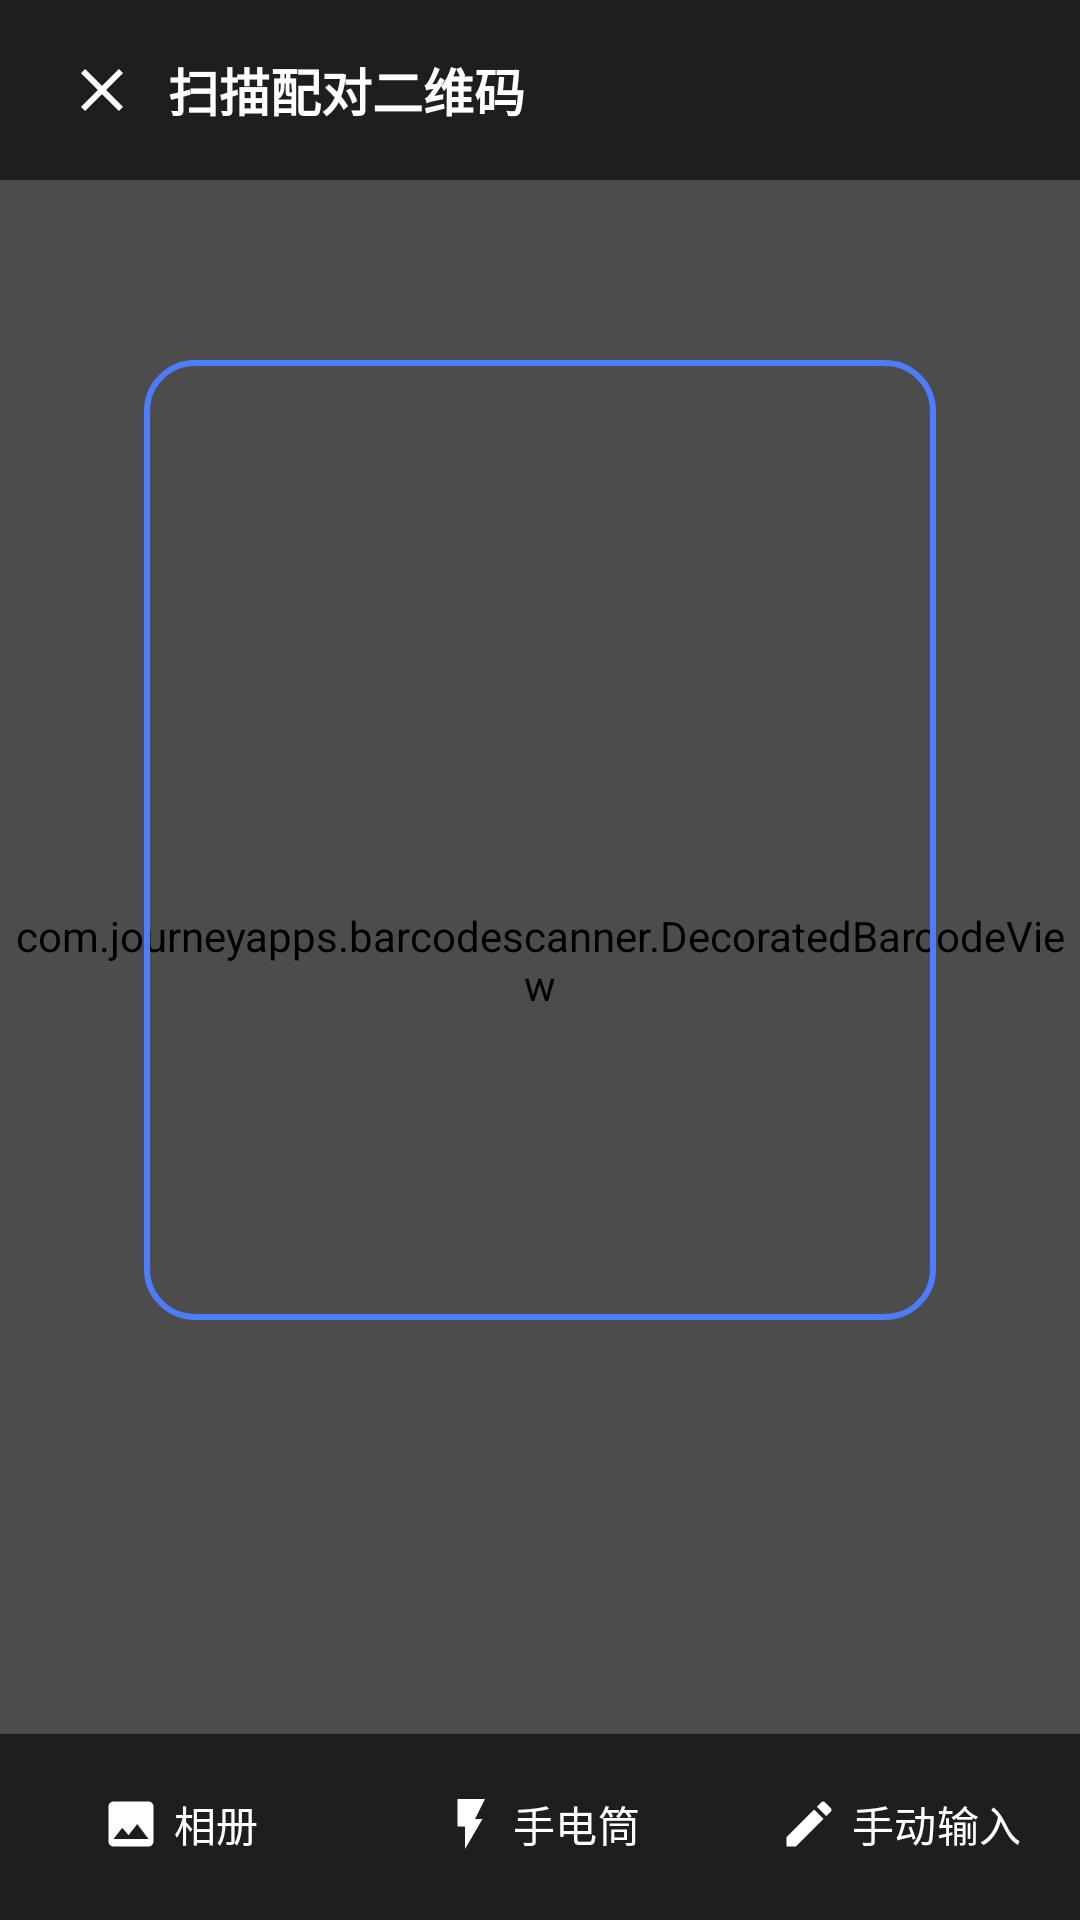

Icon bounding boxes for this 1080px×1920px phone screenshot, format (x1, y1, x2, y2):
关闭: (81, 69, 123, 111)
